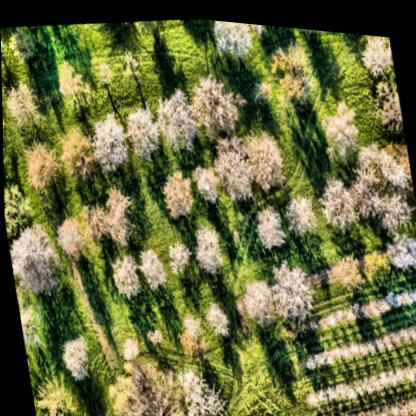tree-top: (346, 133, 415, 232), (4, 220, 63, 298), (148, 82, 201, 163), (266, 250, 318, 326), (187, 65, 241, 137), (312, 167, 360, 240), (86, 183, 138, 244), (269, 39, 319, 100), (174, 358, 226, 416), (209, 132, 254, 199), (55, 125, 99, 190), (2, 76, 48, 137), (242, 125, 287, 187), (118, 370, 178, 416), (17, 136, 61, 196), (90, 103, 130, 168), (322, 101, 365, 160), (55, 333, 95, 392), (248, 195, 288, 252), (238, 269, 275, 326), (122, 102, 158, 160), (107, 245, 146, 296), (354, 27, 395, 75), (211, 16, 254, 60), (282, 183, 319, 233), (54, 54, 94, 100), (159, 161, 195, 212), (374, 76, 405, 133), (15, 293, 43, 356), (327, 242, 362, 292), (3, 177, 33, 232), (381, 220, 416, 266), (188, 221, 220, 271), (37, 377, 74, 416), (52, 210, 83, 256), (134, 245, 164, 288), (205, 299, 233, 344), (190, 158, 216, 206), (360, 242, 390, 282), (175, 312, 205, 351), (160, 233, 188, 274), (9, 23, 38, 60), (143, 316, 166, 350), (118, 331, 141, 360), (119, 44, 140, 72), (97, 57, 114, 86), (292, 22, 325, 31), (94, 416, 121, 416)
